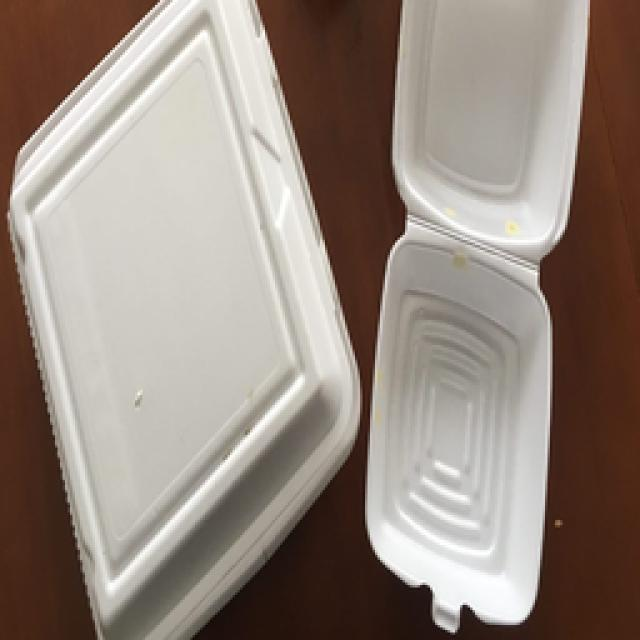styrofoam: (10, 0, 358, 638), (365, 0, 588, 630)
